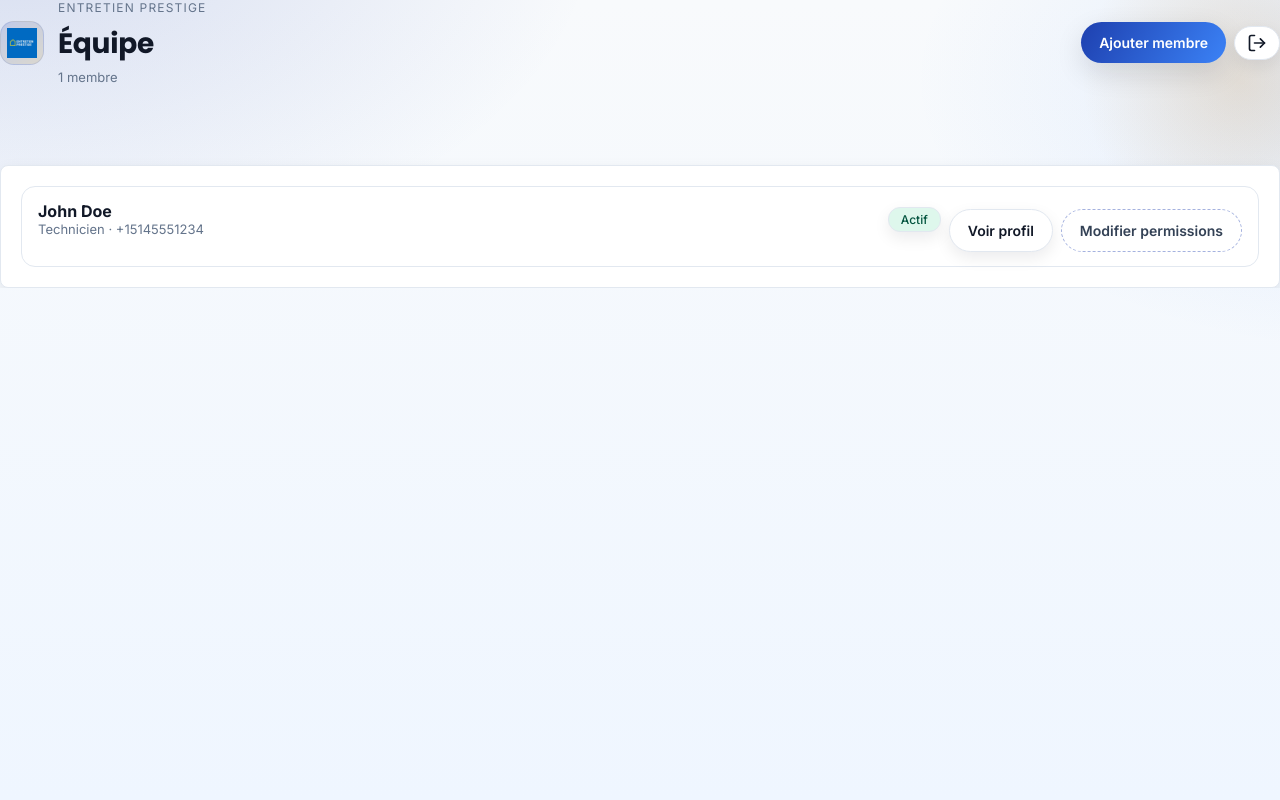
Test: Phase 1: Team Page Permissions Modal › should allow saving custom permissions
The image size is (1280, 800).
Check: the text "John Doe" is shown, box [38,201,112,221]
// Click "Modifier permissions" button
Click the button "Modifier permissions" at (1151, 230), box [1061,209,1242,252]
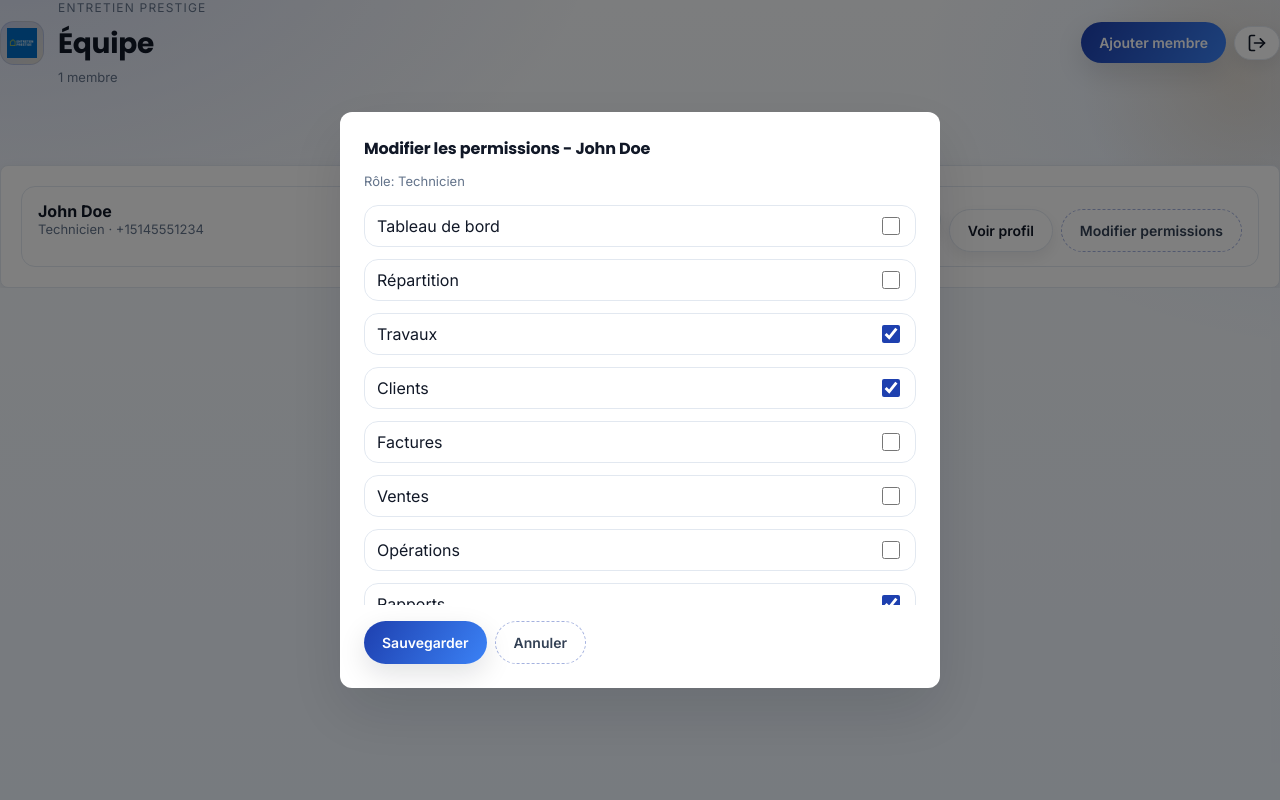
Check: the heading "Modifier les permissions - John Doe" is shown, box [364,137,650,160]
// Click save button
Click the button "Sauvegarder" at (425, 642), box [364,621,487,664]
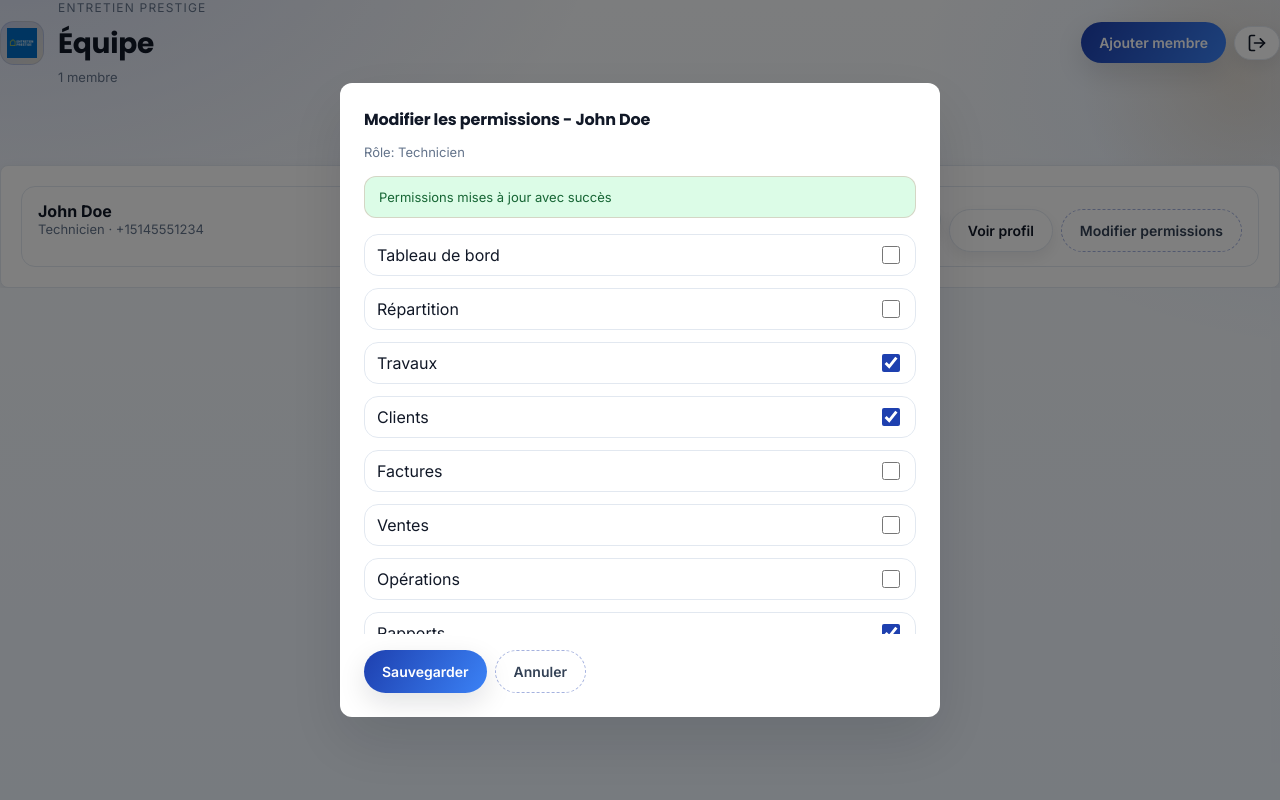
Check: the text "Permissions mises à jour avec succès" is shown, box [364,176,916,218]
